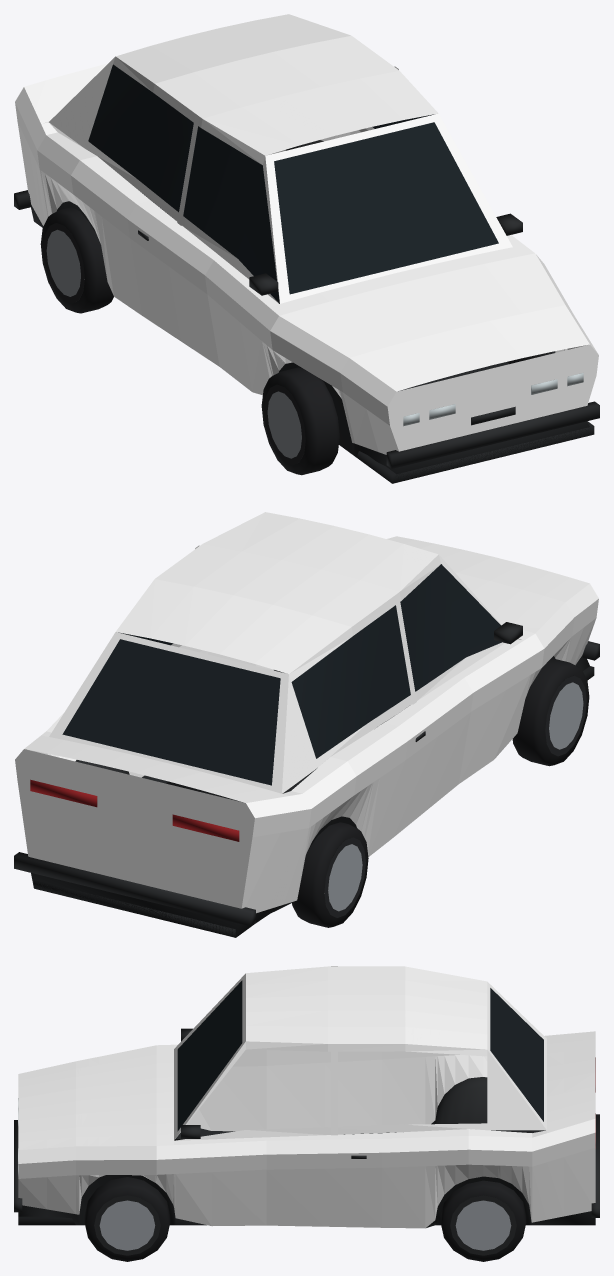
Rendered from sanga_chispa.glb.
The picture shows the model from 3 angles, top to bottom: view 1: azimuth 30°, elevation 25°; view 2: azimuth 150°, elevation 25°; view 3: azimuth 270°, elevation 25°; orthographic projection. The views are drawn at different scales.
Visible parts, largest first — view 1: Body_Paint, Body_Details, Mount_FrontLeft_Wheel_Details, Mount_RearLeft_Wheel_Details; view 2: Body_Paint, Body_Details, Mount_FrontLeft_Wheel_Details, Mount_RearLeft_Wheel_Details; view 3: Body_Paint, Body_Details, Mount_FrontRight_Wheel_Details, Mount_RearRight_Wheel_Details.
Part boxes in pixels (left/top/right/bottom): Body_Paint: left=15, top=14, right=598, bottom=454; Body_Details: left=14, top=64, right=599, bottom=483; Mount_FrontLeft_Wheel_Details: left=261, top=367, right=339, bottom=475; Mount_RearLeft_Wheel_Details: left=40, top=207, right=113, bottom=313; Body_Paint: left=15, top=512, right=598, bottom=913; Body_Details: left=14, top=564, right=599, bottom=937; Mount_FrontLeft_Wheel_Details: left=512, top=658, right=589, bottom=766; Mount_RearLeft_Wheel_Details: left=292, top=822, right=368, bottom=927; Body_Paint: left=18, top=966, right=595, bottom=1228; Body_Details: left=14, top=980, right=599, bottom=1227; Mount_FrontRight_Wheel_Details: left=84, top=1177, right=170, bottom=1261; Mount_RearRight_Wheel_Details: left=440, top=1180, right=526, bottom=1261.
Size of the model in its own units: 1.74 by 1.49 by 3.84.
2 materials, 1 textured.
